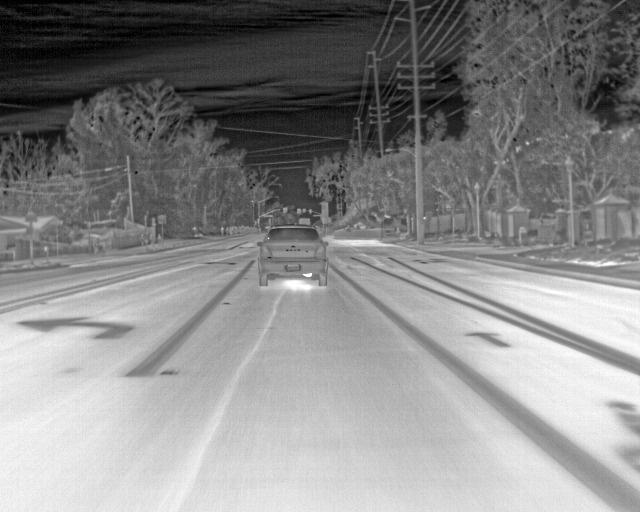car: (256, 224, 328, 288)
